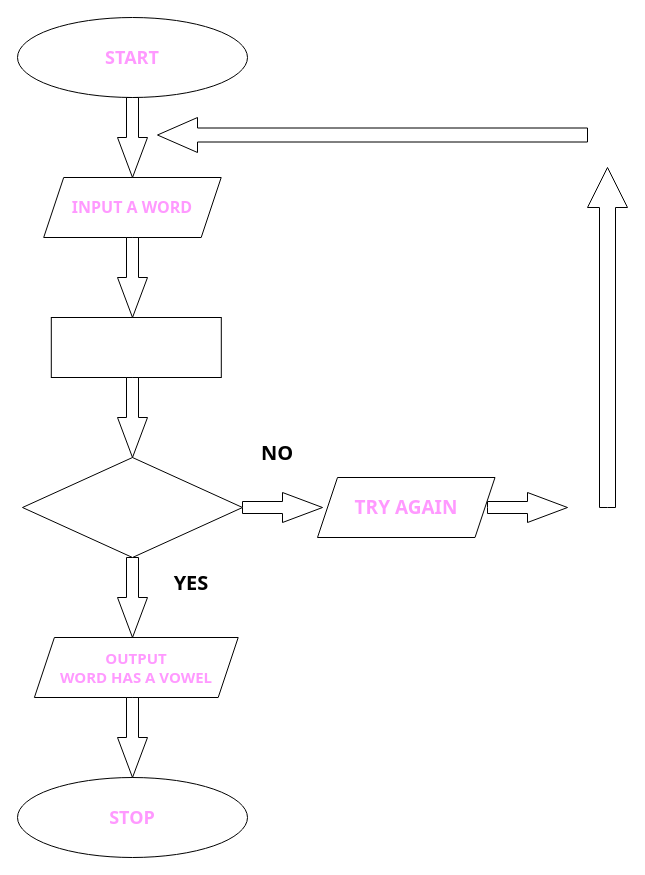
Image size: 645x875. Some labels were removed from this diagram. The centre of each missing label's shape, as x and y in pixels:
CHECK WORD HAS aeiou: [135,347]
DOES WORD HAVE aeiou INPUT: [132,507]
